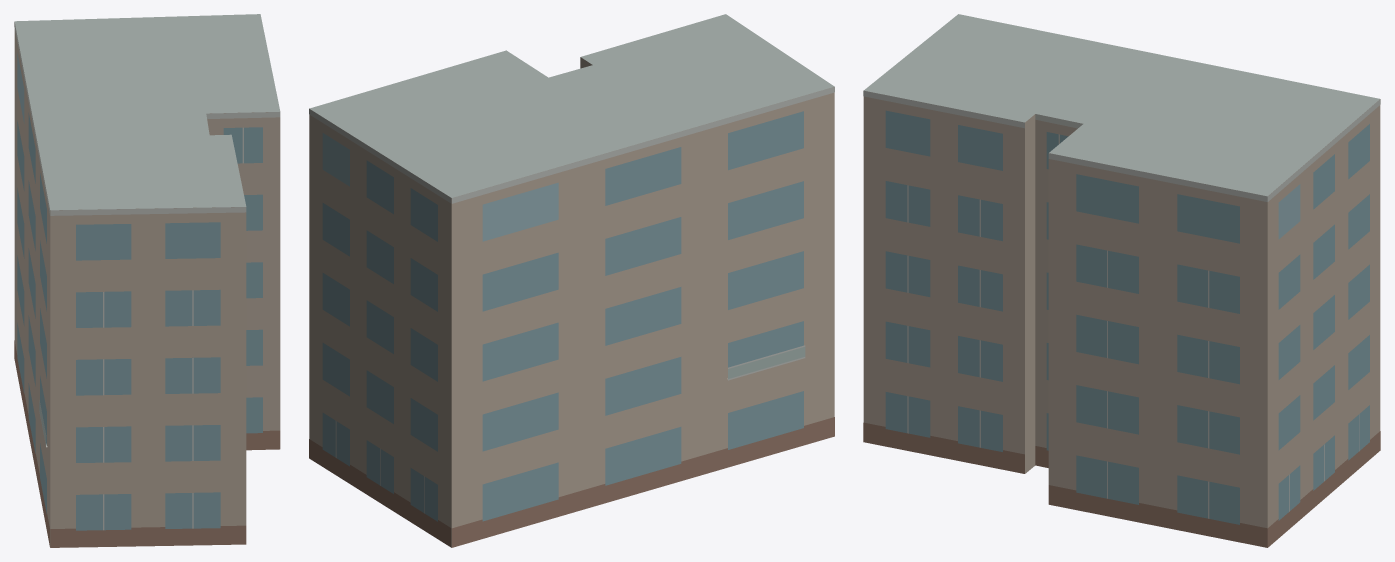
The model's file is survey-upis-32987868.glb.
3 views of the same model, side by side, from view 1: azimuth 30°, elevation 25°; view 2: azimuth 150°, elevation 25°; view 3: azimuth 270°, elevation 25° (orthographic). The views are drawn at different scales.
Visible parts, largest first — view 1: survey-upis-32987868.tmp; view 2: survey-upis-32987868.tmp; view 3: survey-upis-32987868.tmp.
Boxes of the visible parts, x1,y1,x2,y2 form: survey-upis-32987868.tmp: (14, 14, 280, 547); survey-upis-32987868.tmp: (309, 14, 834, 547); survey-upis-32987868.tmp: (863, 14, 1380, 547).
Size of the model in its own units: 16.36 by 14.7 by 19.6.
